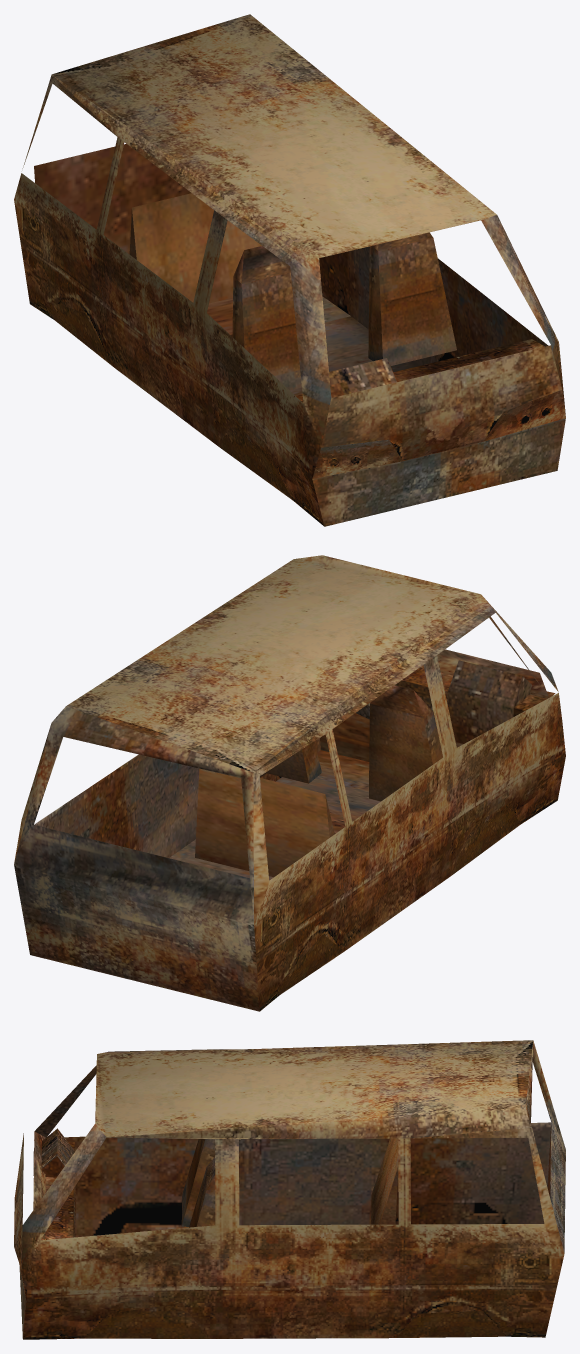
The model's file is Prop_Wj034a_lod2.glb.
The picture shows the model from 3 angles, top to bottom: view 1: azimuth 30°, elevation 25°; view 2: azimuth 150°, elevation 25°; view 3: azimuth 270°, elevation 25°; orthographic projection. The views are drawn at different scales.
Visible parts, largest first — view 1: xiutz_wj034a_lod2; view 2: xiutz_wj034a_lod2; view 3: xiutz_wj034a_lod2.
Boxes of the visible parts, x1,y1,x2,y2 form: xiutz_wj034a_lod2: [14, 14, 565, 526]; xiutz_wj034a_lod2: [14, 555, 565, 1011]; xiutz_wj034a_lod2: [14, 1040, 565, 1339].
Size of the model in its own units: 2.21 by 2.09 by 4.71.
Materials: 1 (1 with a texture image).
